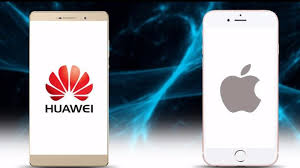huawei: (27, 12, 111, 167)
